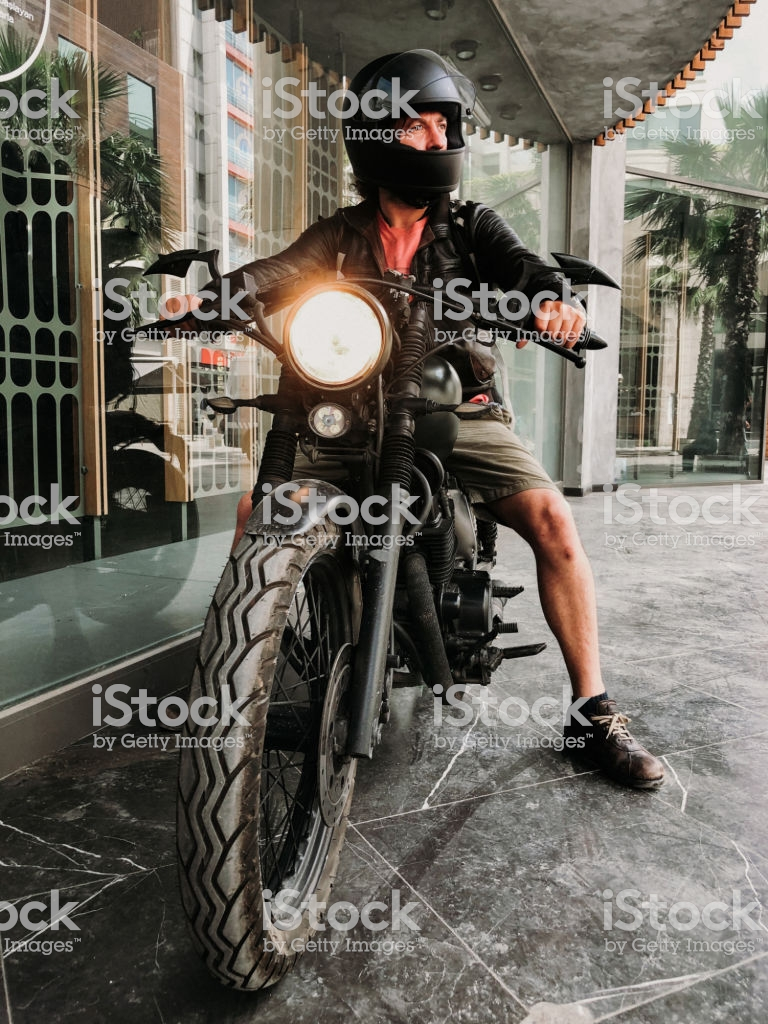helmet: (350, 53, 479, 201)
